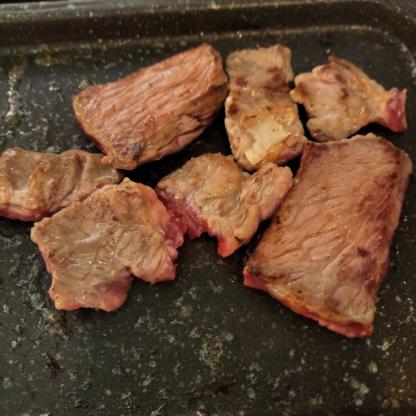Carne: (247, 134, 416, 340), (30, 172, 190, 320), (87, 39, 231, 174), (215, 41, 310, 186), (179, 146, 296, 257), (304, 54, 404, 150), (1, 137, 107, 224)
